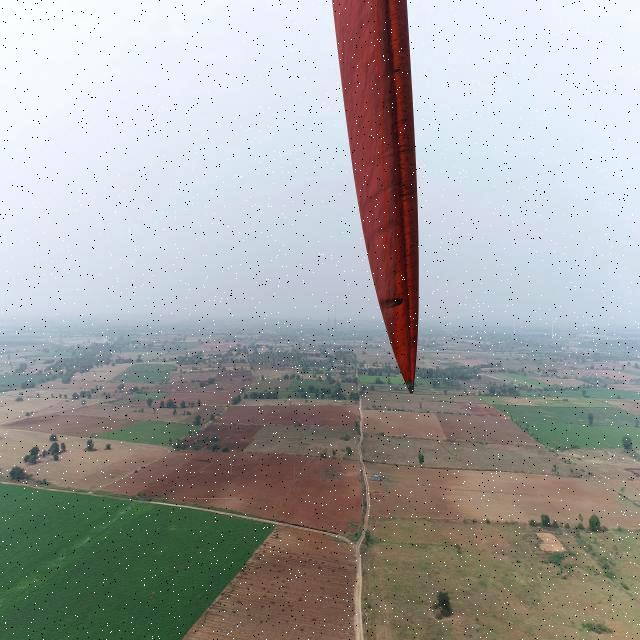Dirt: (332, 0, 425, 389)
Oil LEAKAGE: (379, 290, 406, 309)
